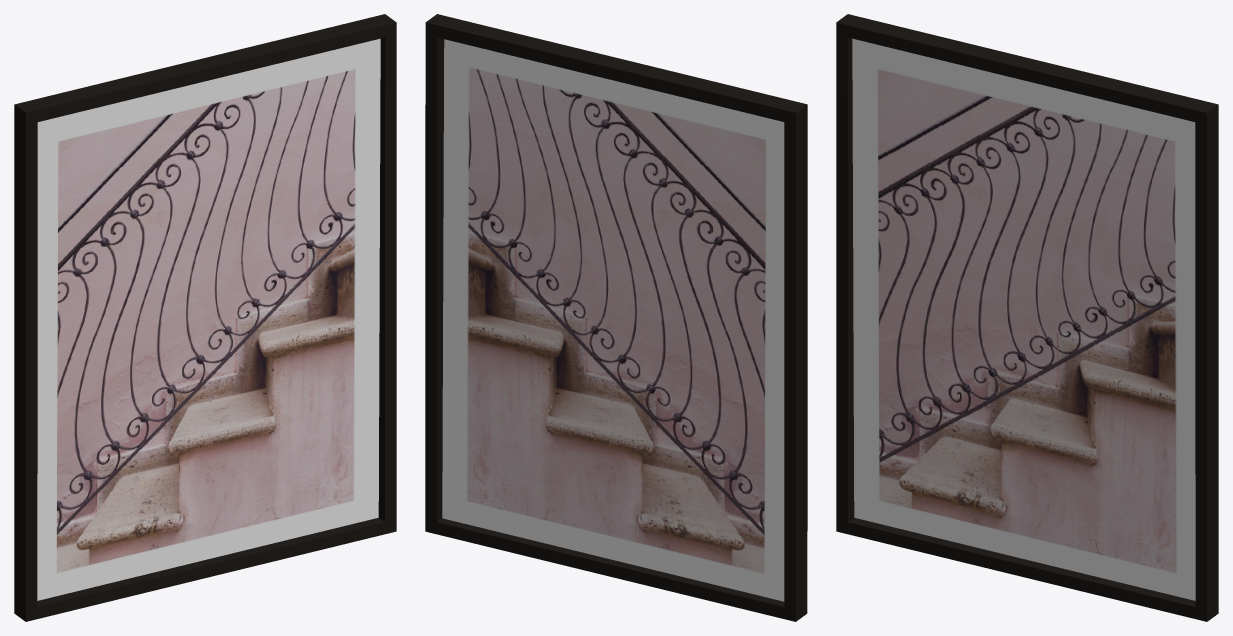
The model's file is P655187_rosa_trappa_30x40_WEBB.glb.
3 views of the same model, side by side, from view 1: azimuth 30°, elevation 25°; view 2: azimuth 150°, elevation 25°; view 3: azimuth 330°, elevation 25° (orthographic).
Parts seen in each view (by area): view 1: P655208_vintervass_30x40_WEBB, Frame2; view 2: P655208_vintervass_30x40_WEBB, Frame2; view 3: P655208_vintervass_30x40_WEBB, Frame2.
Part boxes in pixels (x1,y1,x2,y2): P655208_vintervass_30x40_WEBB: (37, 38, 380, 600); Frame2: (14, 14, 396, 621); P655208_vintervass_30x40_WEBB: (442, 39, 784, 601); Frame2: (425, 14, 807, 621); P655208_vintervass_30x40_WEBB: (852, 38, 1195, 600); Frame2: (836, 14, 1218, 621).
Bounding box in the file's own units: 0.2576 × 0.3381 × 0.0143.
2 materials, 2 textured.
